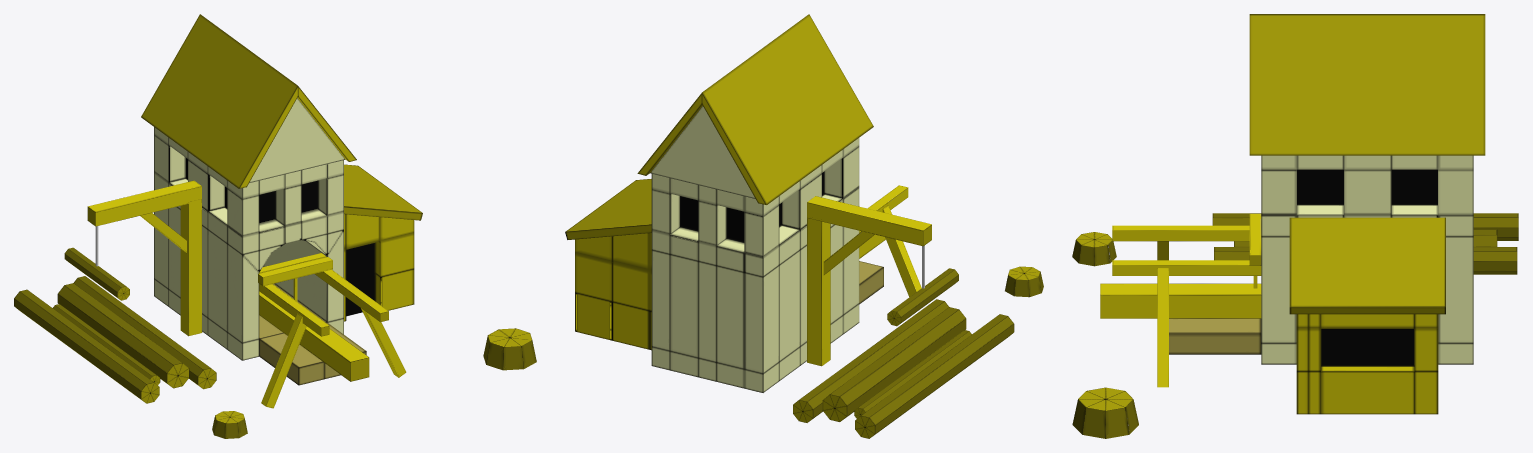
Rendered from wood_mine_lod2.fbx.
3 renders of one model, left to right at view 1: azimuth 30°, elevation 25°; view 2: azimuth 150°, elevation 25°; view 3: azimuth 270°, elevation 25°, orthographic. The views are drawn at different scales.
Parts seen in each view (by area): view 1: wood_mine_mesh; view 2: wood_mine_mesh; view 3: wood_mine_mesh.
Part boxes in pixels (bbox=[...]): wood_mine_mesh: bbox=[14, 14, 536, 438]; wood_mine_mesh: bbox=[565, 14, 1043, 438]; wood_mine_mesh: bbox=[1072, 14, 1518, 438].
Bounding box in the file's own units: 20.55 × 15.75 × 18.94.
